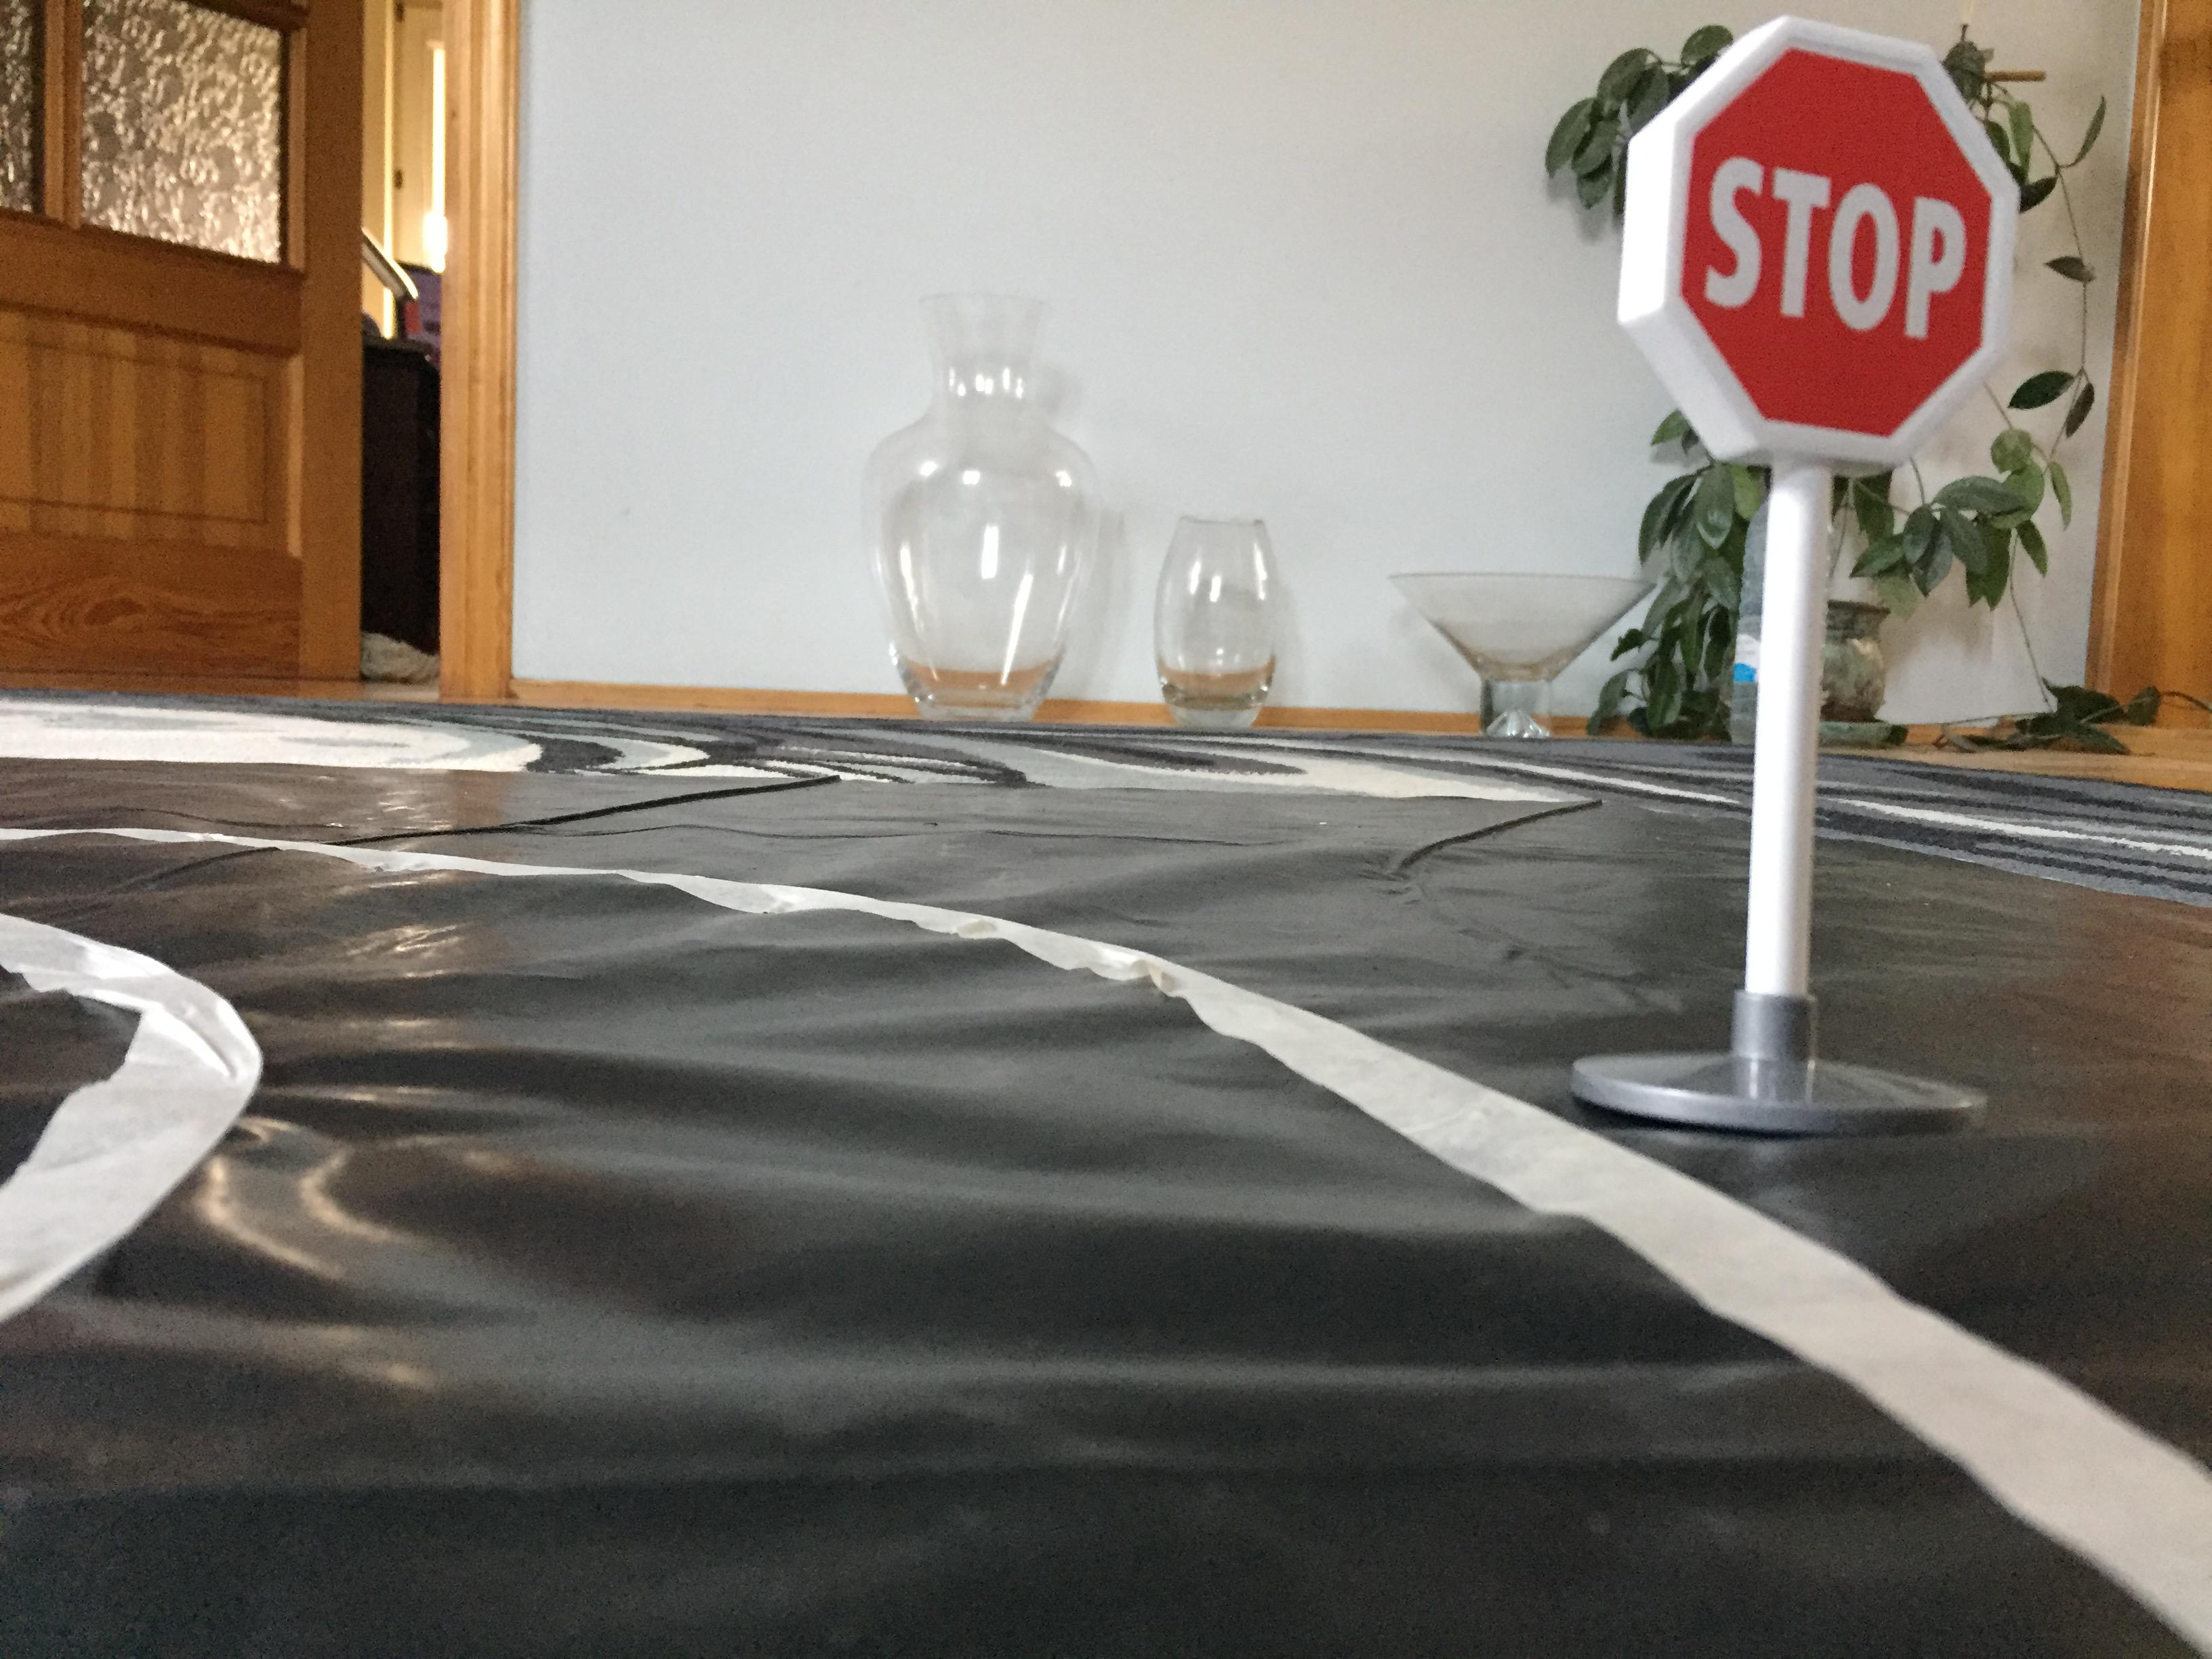stop: (1604, 16, 2040, 477)
